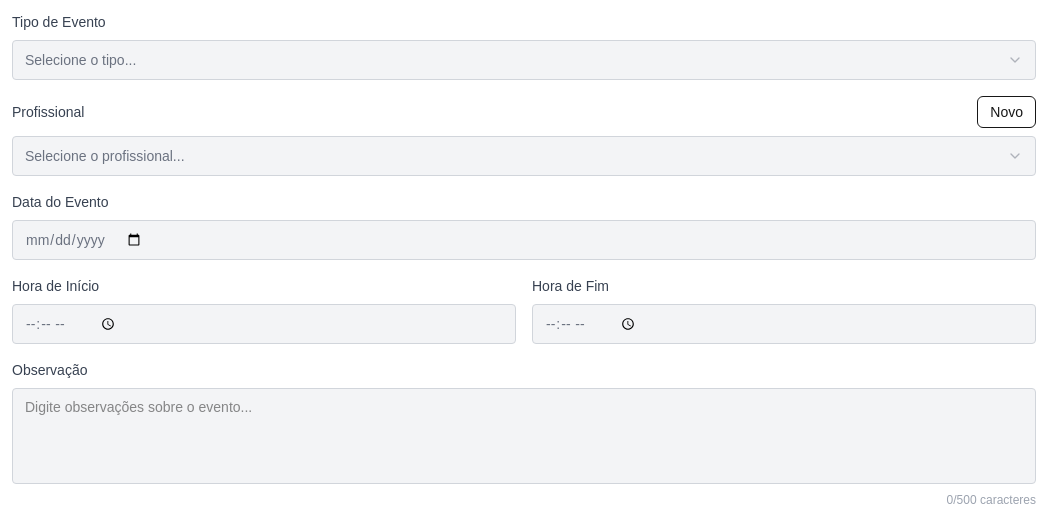
EventForm › renders event type select with options
Click the dropdown "Selecione o tipo...".
click(81, 60)  # box [12, 40, 1036, 80]
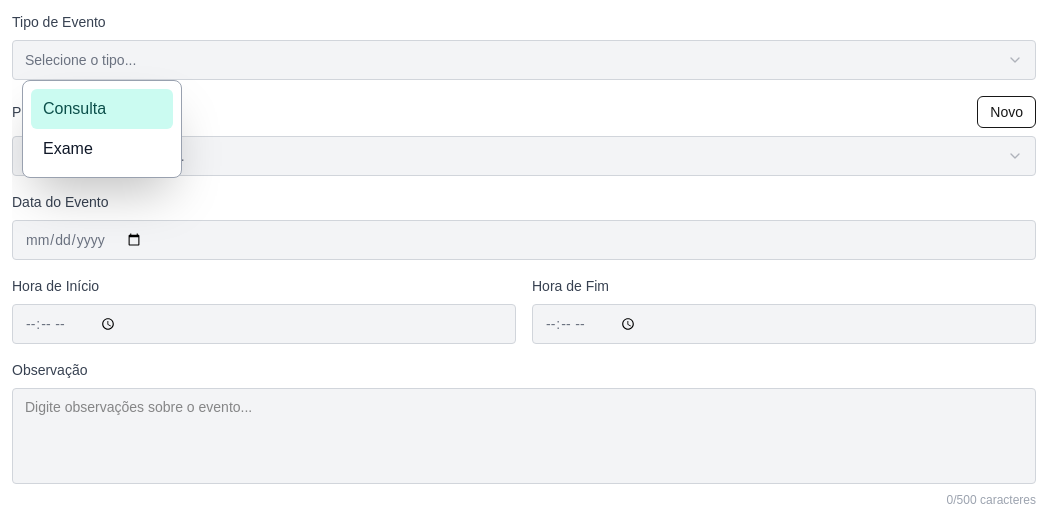
Expected: the text "Consulta" is shown, [43, 97, 106, 121]
Expected: the text "Exame" is shown, [43, 137, 93, 161]
